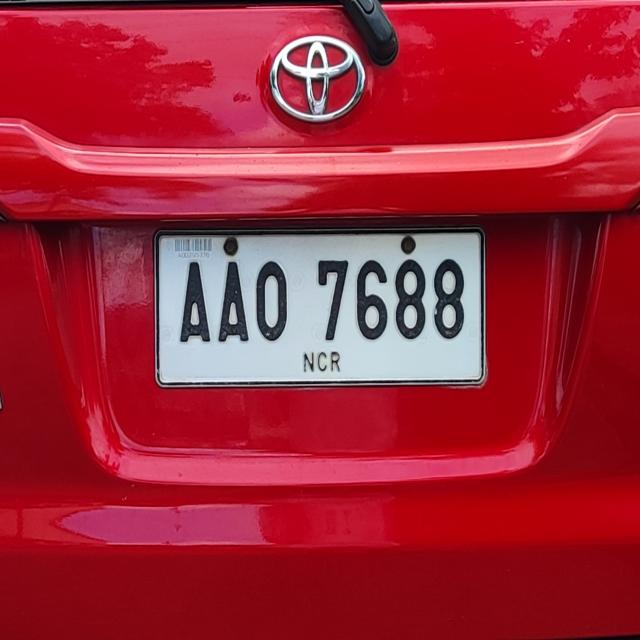plate: (152, 225, 488, 388)
